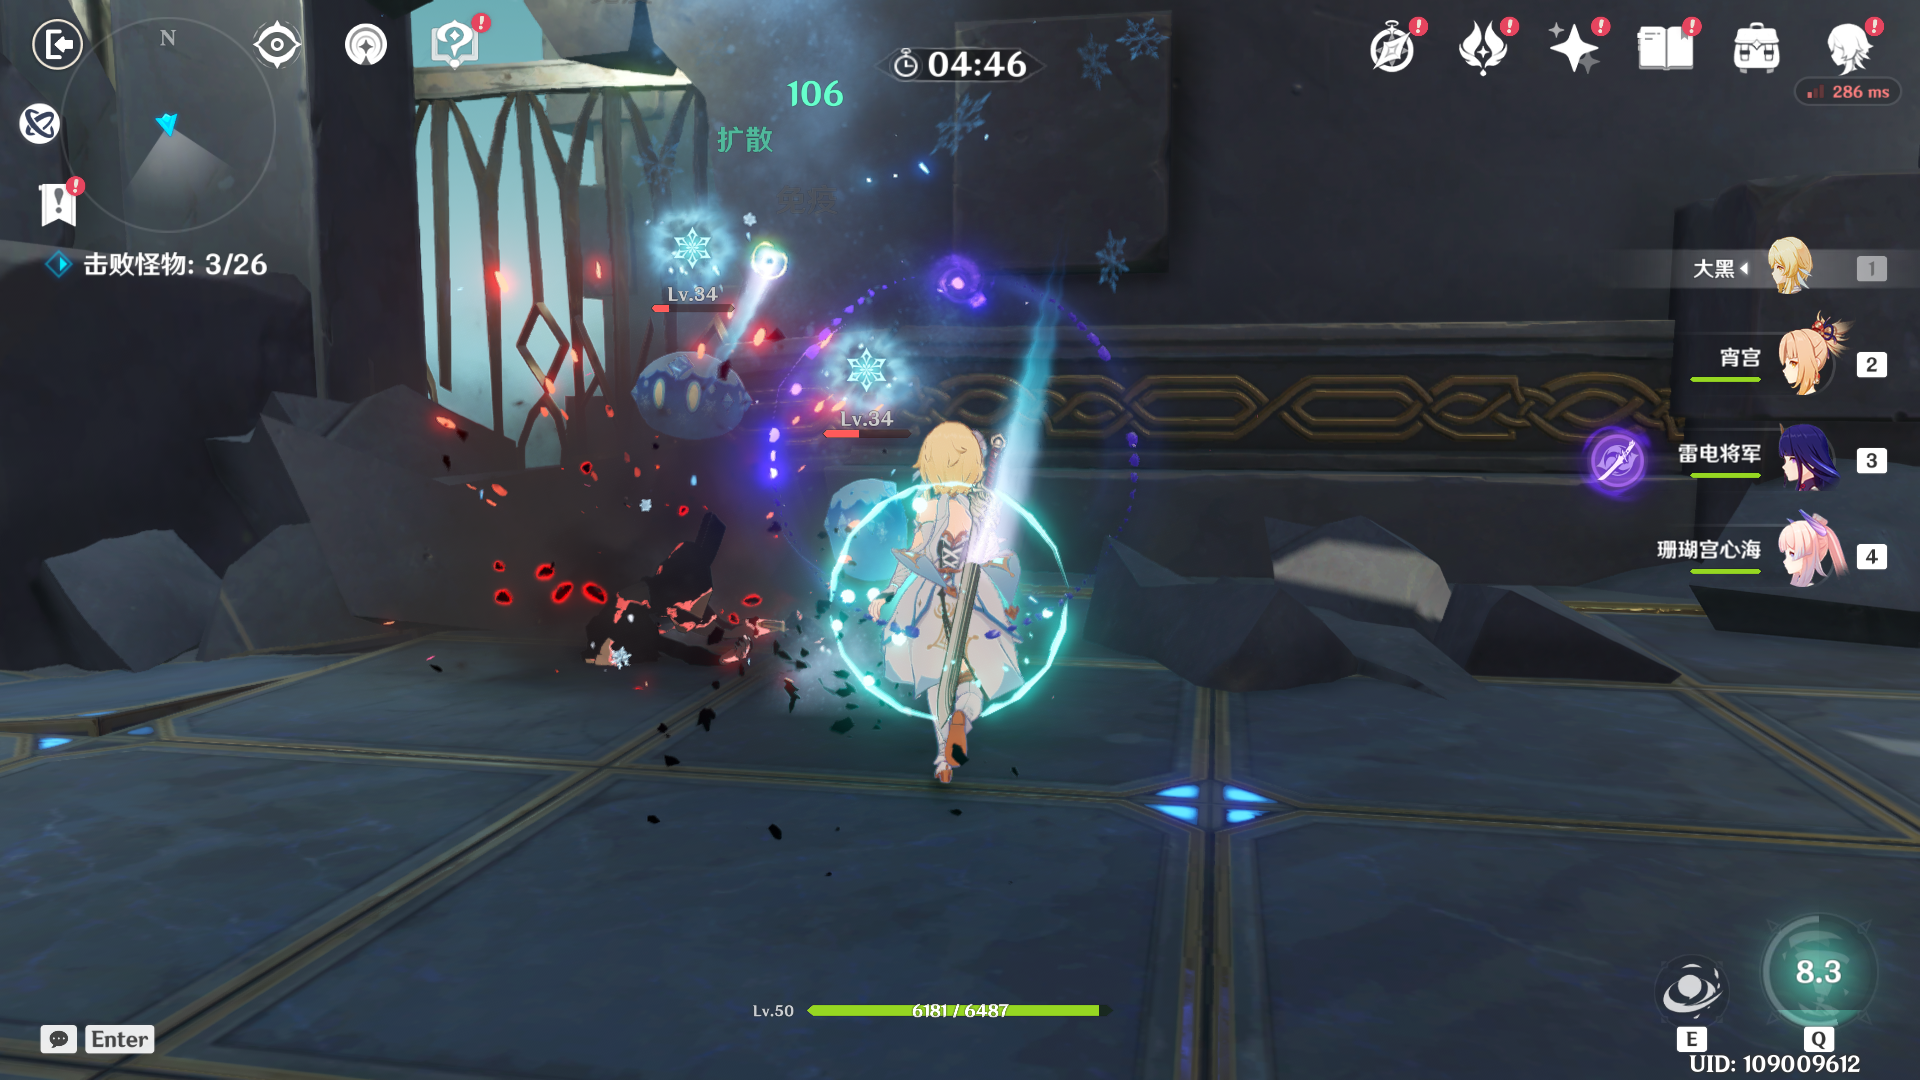character: (872, 415, 1054, 816)
slime: (804, 469, 922, 607), (616, 342, 757, 448)
